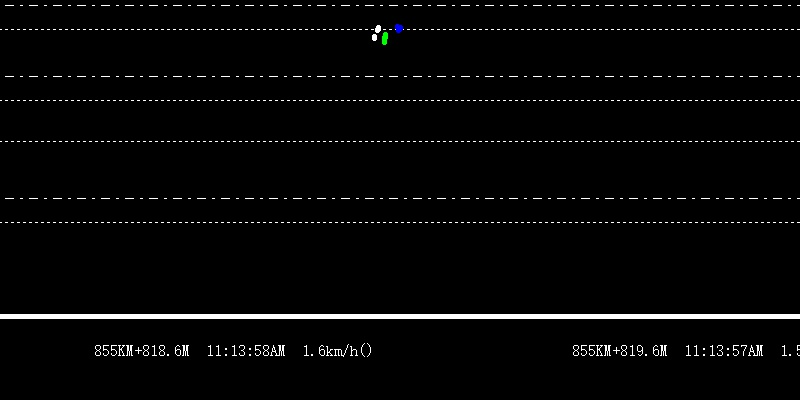face_1: (394, 20, 405, 33)
face_down: (380, 25, 390, 47)
